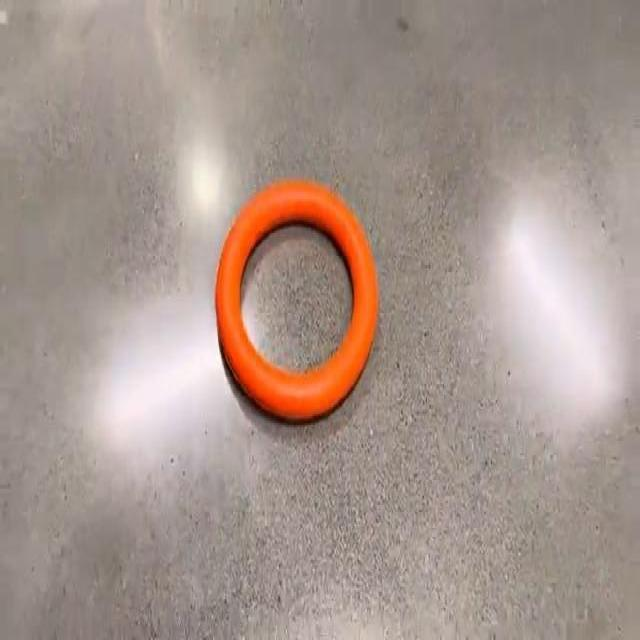note: (216, 180, 377, 419)
